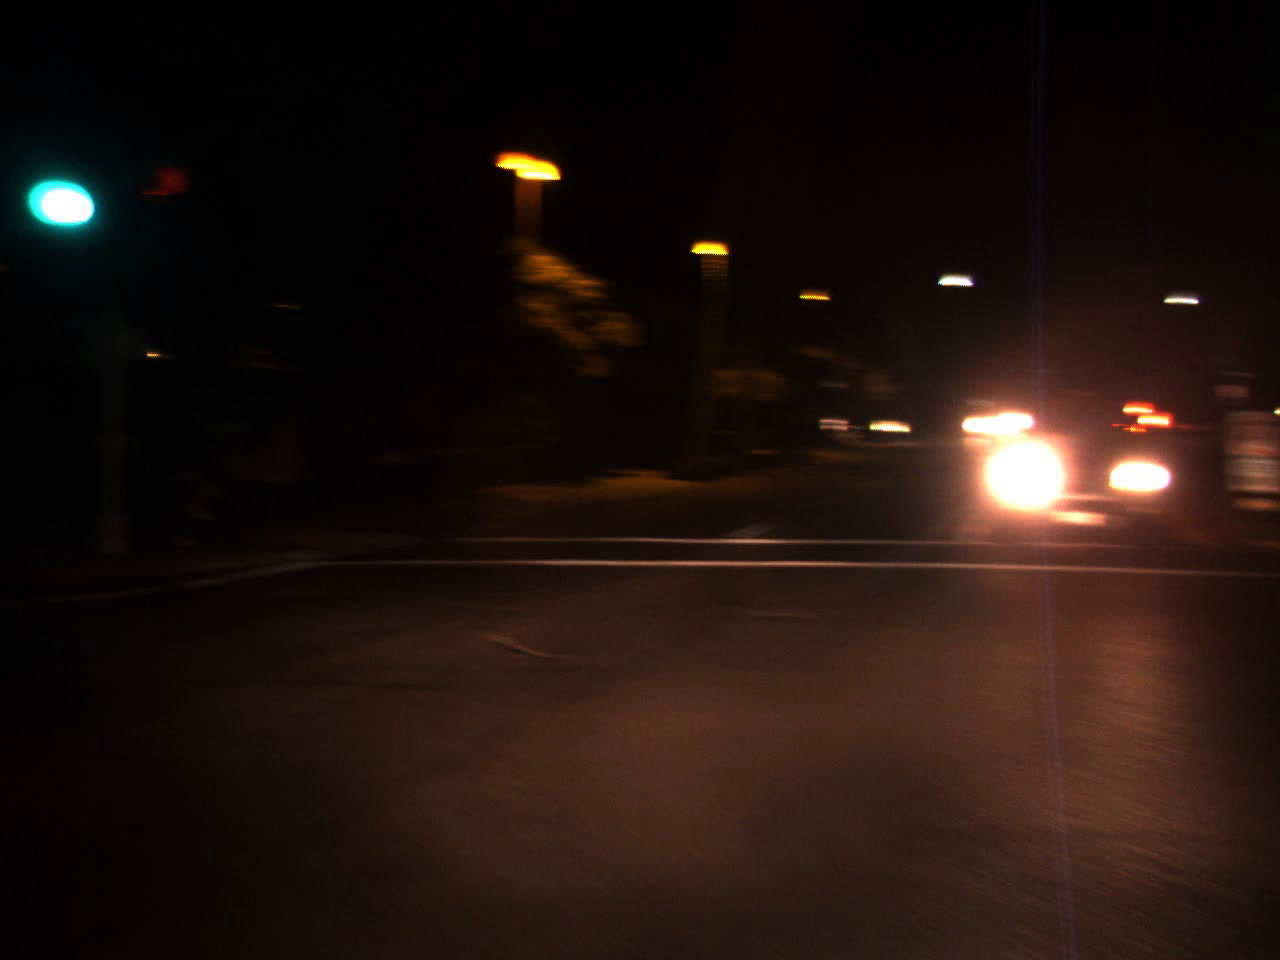go: (13, 130, 108, 238)
